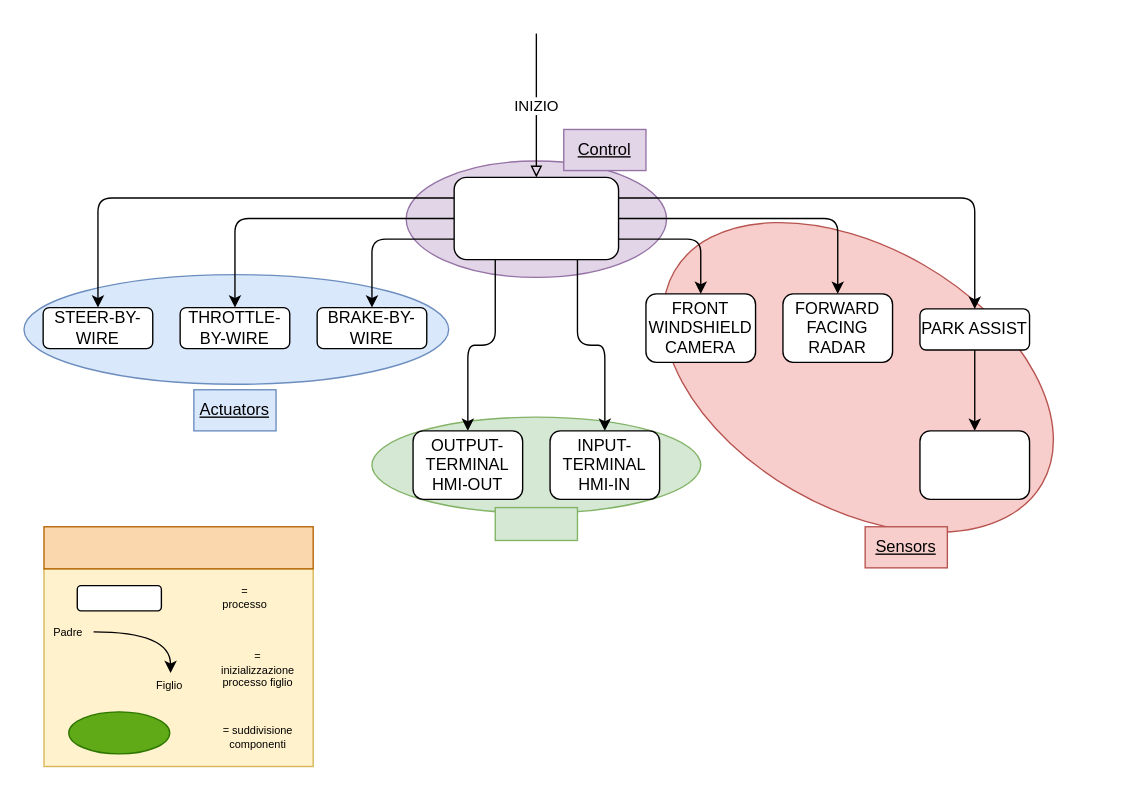
Some shapes in this 1132 by 790 pixel diagram are drawn without their labels. Each missing label, with the centre of its shape:
"COMPONENTE" belongs at (118,597).
"Interface" belongs at (535,523).
"LEGENDA" belongs at (178,547).
"SURROUND VIEW CAMERAS" belongs at (974,464).
"UNITÀ CONTROLLO CENTRAL-ECU (nome file binario)" belongs at (536,218).
